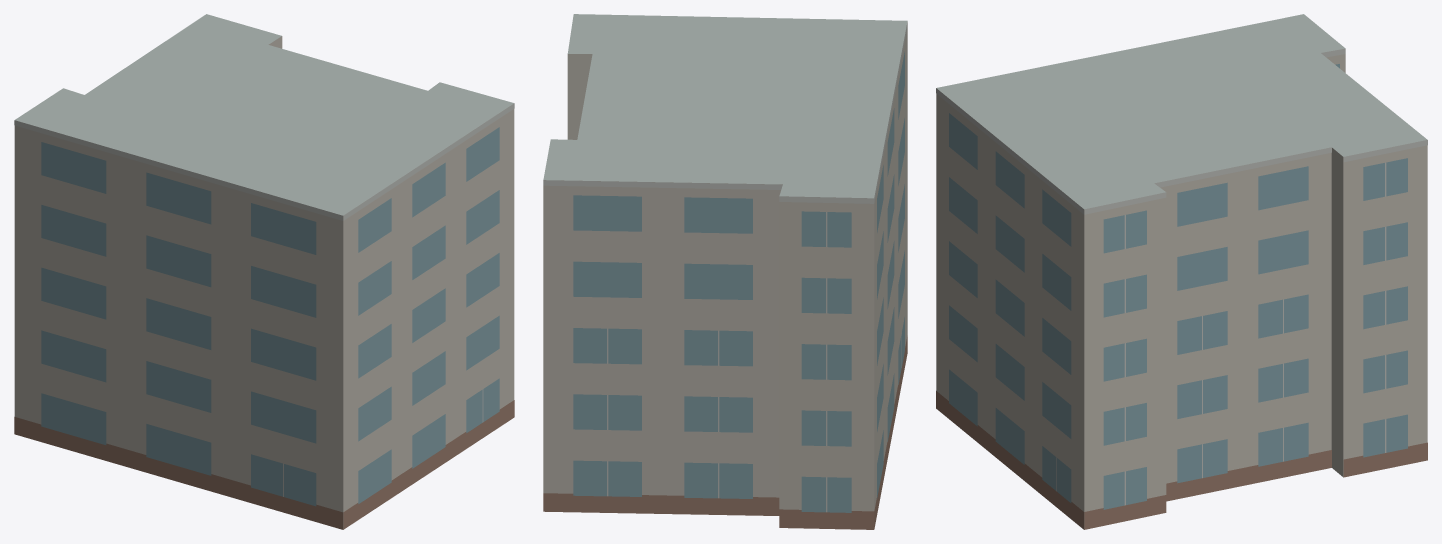
The model's file is survey-upis-32750869.glb.
3 views of the same model, side by side, from view 1: azimuth 30°, elevation 25°; view 2: azimuth 150°, elevation 25°; view 3: azimuth 270°, elevation 25° (orthographic). The views are drawn at different scales.
Parts seen in each view (by area): view 1: survey-upis-32750869.tmp; view 2: survey-upis-32750869.tmp; view 3: survey-upis-32750869.tmp.
Part boxes in pixels (x1,y1,x2,y2): survey-upis-32750869.tmp: (14,14,514,529); survey-upis-32750869.tmp: (543,14,907,529); survey-upis-32750869.tmp: (936,14,1427,529).
Size of the model in its own units: 18.77 by 14.35 by 19.96.
